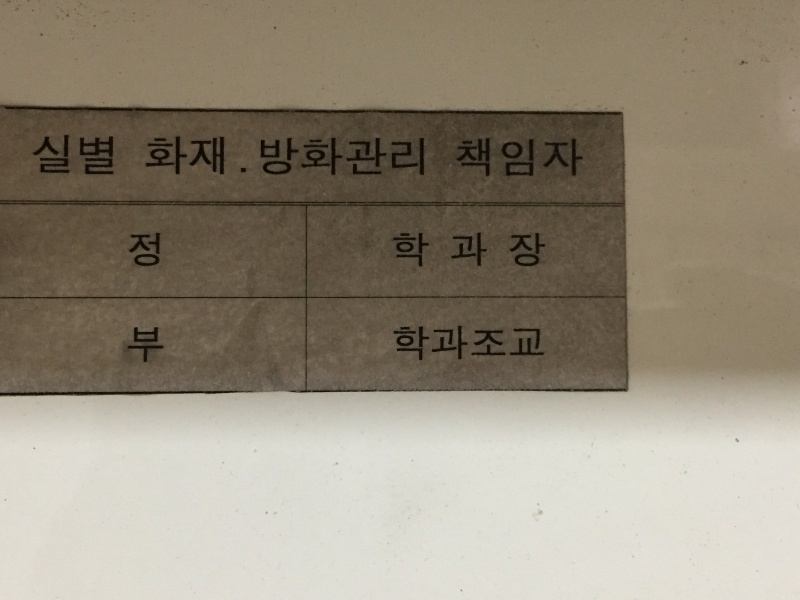text: (49, 134, 64, 176), (65, 134, 80, 176), (81, 134, 96, 176), (97, 134, 112, 176), (465, 138, 480, 179), (481, 138, 496, 179), (497, 138, 512, 179), (513, 138, 528, 179), (529, 138, 544, 179), (545, 138, 560, 179), (561, 138, 576, 179), (161, 136, 176, 177), (177, 136, 192, 177), (193, 136, 208, 177), (209, 136, 224, 177), (225, 136, 240, 177), (273, 136, 288, 177), (289, 136, 304, 177), (305, 136, 320, 177), (321, 136, 336, 177), (337, 136, 352, 177), (353, 136, 368, 177), (369, 136, 384, 177), (385, 136, 400, 177), (401, 136, 416, 177), (401, 324, 416, 364), (417, 324, 432, 364), (433, 324, 448, 364), (449, 324, 464, 364), (465, 324, 480, 364), (481, 324, 496, 364), (497, 324, 512, 364), (513, 324, 528, 364), (529, 324, 544, 364), (34, 134, 48, 176), (146, 136, 160, 177), (401, 231, 416, 269), (417, 231, 432, 269), (433, 231, 448, 269), (449, 231, 464, 269), (465, 231, 480, 269), (481, 231, 496, 269), (497, 231, 512, 269), (513, 231, 528, 269), (529, 231, 544, 269), (145, 233, 161, 268), (129, 327, 144, 364), (145, 327, 160, 364), (130, 233, 144, 268), (261, 136, 272, 177), (417, 136, 426, 177), (457, 138, 464, 179), (577, 138, 584, 179), (241, 136, 248, 177), (393, 324, 400, 364), (393, 231, 400, 269), (161, 327, 165, 364), (113, 134, 114, 176), (545, 324, 546, 364), (545, 231, 546, 269)
